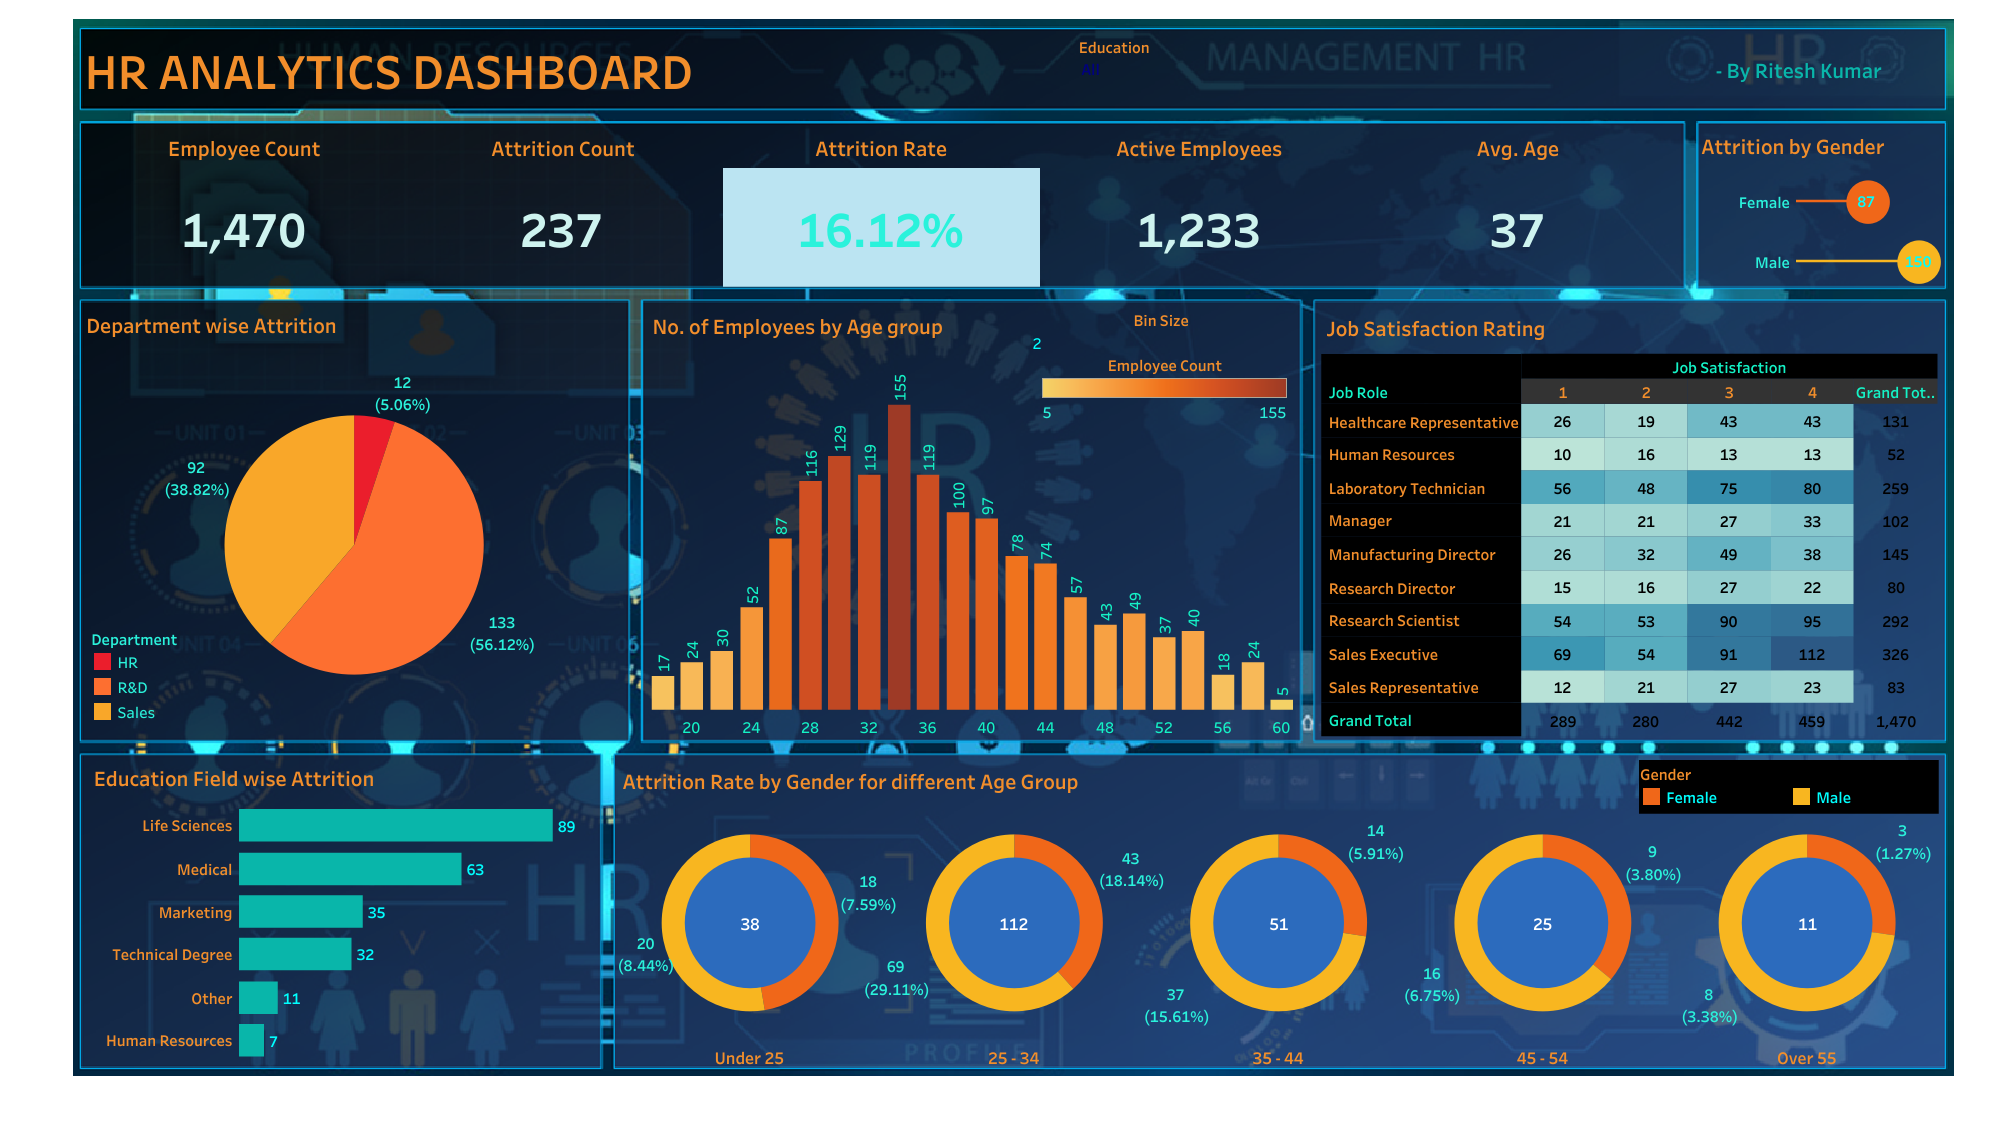

This screenshot's page, from the dashboard's own definition file:
{"tool":"tableau","page":{"name":"HR ANALYTICS DASHBOARD","canvas":[1600,900],"ordinal":0},"visuals":[{"type":"image","param":"Image/HR background.png","box":[58,11,1505,854]},{"type":"text","box":[65,24,888,63]},{"type":"filter","title":"Department wise Attrition","param":"[federated.0oo840r1a7lmjl1grhzae1ocaai2].[none:Education:nk]","box":[863,27,261,56]},{"type":"text","box":[1370,30,179,50]},{"type":"worksheet","title":"Attrition by Gender","mark":"Automatic","rows":["Gender"],"cols":["Calculation_1398367732287840256","Calculation_1398367732287840256"],"box":[1357,99,201,134]},{"type":"worksheet","title":"KPI","mark":"Automatic","box":[68,102,1274,127]},{"type":"worksheet","title":"Department wise Attrition","mark":"Pie","box":[65,242,437,350]},{"type":"worksheet","title":"Number of Employee by age group","mark":"Automatic","rows":["Employee Count"],"cols":["Age (bin)"],"box":[518,243,519,347]},{"type":"worksheet","title":"Job Satisfaction Rating","mark":"Square","rows":["Job Role"],"cols":["Job Satisfaction"],"box":[1057,245,493,344]},{"type":"parameter","param":"[Parameters].[Parameter 1]","box":[824,246,210,43]},{"type":"legend","title":"Number of Employee by age group","param":"[federated.0oo840r1a7lmjl1grhzae1ocaai2].[sum:Employee Count:qk]","box":[830,279,204,65]},{"type":"legend","title":"Department wise Attrition","param":"[federated.0oo840r1a7lmjl1grhzae1ocaai2].[none:Department:nk]","box":[72,500,140,85]},{"type":"worksheet","title":"Sheet 6","mark":"Automatic","rows":["Education Field"],"cols":["Calculation_1398367732287840256"],"box":[71,605,408,244]},{"type":"worksheet","title":"Sheet 7","mark":"Pie","rows":["Calculation_1209498023231250433","Calculation_1209498023231250433"],"cols":["CF_age band"],"box":[494,607,1057,248]},{"type":"legend","title":"Sheet 7","param":"[federated.0oo840r1a7lmjl1grhzae1ocaai2].[none:Gender:nk]","box":[1311,608,240,43]}]}

Visuals, with their boxes in screenshot pixels (x1, y1, x2, y2), scaled from the page's 1600x900 canvas onto the 1999x1124 screenshot:
image: (72,14,1953,1080)
text: (81,30,1191,109)
"Department wise Attrition" filter: (1078,34,1404,104)
text: (1712,37,1935,100)
"Attrition by Gender" worksheet: (1695,124,1947,291)
"KPI" worksheet: (85,127,1677,286)
"Department wise Attrition" worksheet (Pie marks): (81,302,627,739)
"Number of Employee by age group" worksheet: (647,303,1296,737)
"Job Satisfaction Rating" worksheet (Square marks): (1321,306,1937,736)
parameter: (1029,307,1292,361)
"Number of Employee by age group" legend: (1037,348,1292,430)
"Department wise Attrition" legend: (90,624,265,731)
"Sheet 6" worksheet: (89,756,598,1060)
"Sheet 7" worksheet (Pie marks): (617,758,1938,1068)
"Sheet 7" legend: (1638,759,1938,813)
